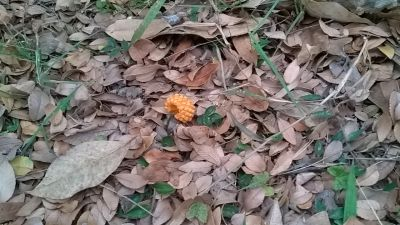eggs: (165, 92, 196, 123)
